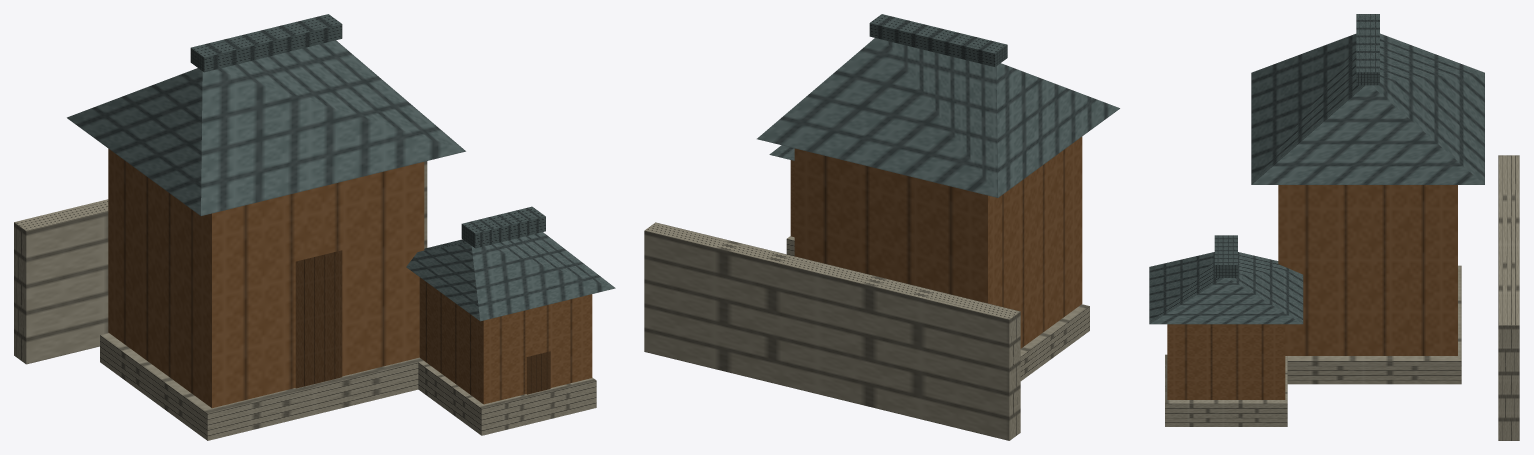
File: domestic-STABLE-3-lod2.glb
The picture shows the model from 3 angles, left to right: view 1: azimuth 30°, elevation 25°; view 2: azimuth 150°, elevation 25°; view 3: azimuth 270°, elevation 25°; orthographic projection. The views are drawn at different scales.
Size of the model in its own units: 0.85 by 0.695 by 0.7825.
Materials: 1 (1 with a texture image).
